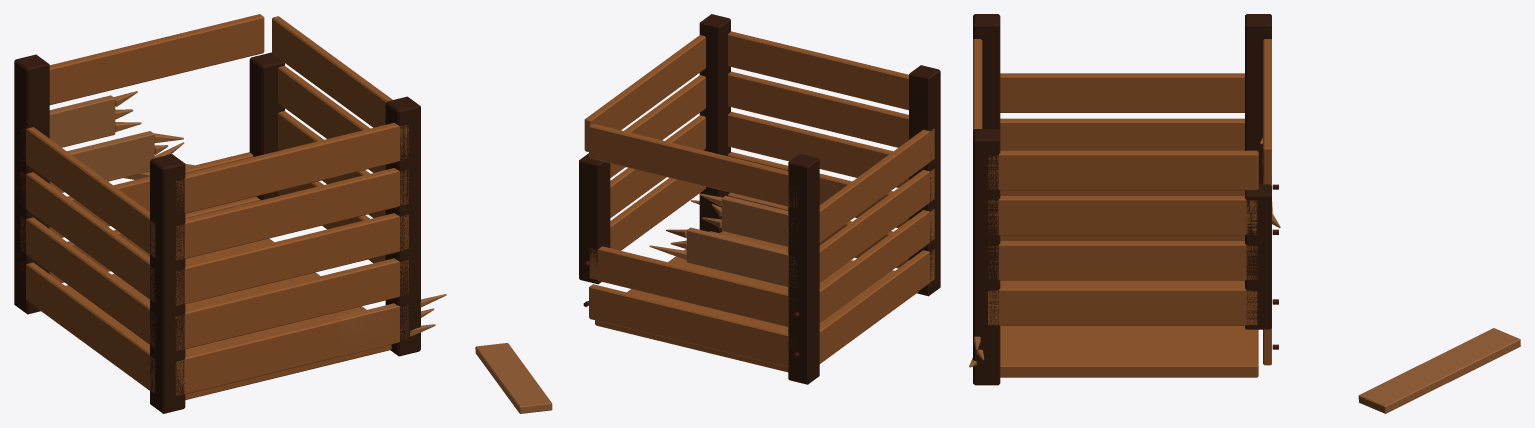
The model's file is DEBRIS_03_BrokenCrate.obj.
The picture shows the model from 3 angles, left to right: view 1: azimuth 30°, elevation 25°; view 2: azimuth 150°, elevation 25°; view 3: azimuth 270°, elevation 25°; orthographic projection. The views are drawn at different scales.
Visible parts, largest first — view 1: DEBRIS_03_BrokenCrate_Slats_Intact, DEBRIS_03_BrokenCrate_Corner_Posts, DEBRIS_03_BrokenCrate_Slats_Broken, DEBRIS_03_BrokenCrate_Floor; view 2: DEBRIS_03_BrokenCrate_Slats_Intact, DEBRIS_03_BrokenCrate_Corner_Posts, DEBRIS_03_BrokenCrate_Slats_Broken, DEBRIS_03_BrokenCrate_Floor; view 3: DEBRIS_03_BrokenCrate_Slats_Intact, DEBRIS_03_BrokenCrate_Corner_Posts, DEBRIS_03_BrokenCrate_Floor, DEBRIS_03_BrokenCrate_Slats_Broken.
Part boxes in pixels (x1=…): DEBRIS_03_BrokenCrate_Slats_Intact: x1=20, y1=14, x2=408, y2=395; DEBRIS_03_BrokenCrate_Corner_Posts: x1=14, y1=52, x2=420, y2=413; DEBRIS_03_BrokenCrate_Slats_Broken: x1=49, y1=91, x2=446, y2=356; DEBRIS_03_BrokenCrate_Floor: x1=38, y1=238, x2=391, y2=399; DEBRIS_03_BrokenCrate_Slats_Intact: x1=584, y1=31, x2=934, y2=367; DEBRIS_03_BrokenCrate_Corner_Posts: x1=579, y1=14, x2=940, y2=384; DEBRIS_03_BrokenCrate_Slats_Broken: x1=475, y1=193, x2=797, y2=413; DEBRIS_03_BrokenCrate_Floor: x1=595, y1=231, x2=918, y2=372; DEBRIS_03_BrokenCrate_Slats_Intact: x1=973, y1=39, x2=1271, y2=365; DEBRIS_03_BrokenCrate_Corner_Posts: x1=973, y1=14, x2=1271, y2=385; DEBRIS_03_BrokenCrate_Floor: x1=1000, y1=280, x2=1258, y2=377; DEBRIS_03_BrokenCrate_Slats_Broken: x1=969, y1=137, x2=1520, y2=413.
Bounding box in the file's own units: 0.809 × 0.6 × 1.22.
